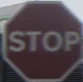Stop: (6, 5, 78, 71)
